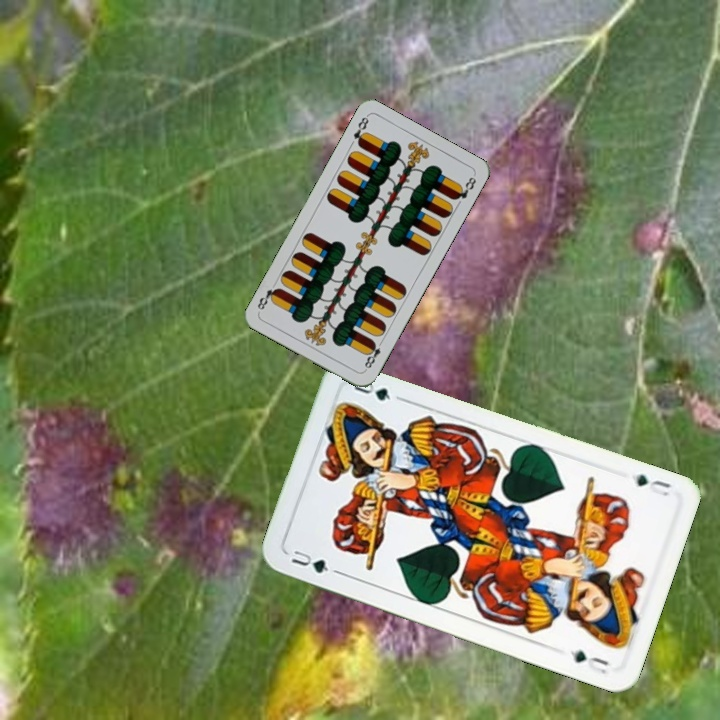E8: (360, 336, 386, 373), (349, 112, 372, 149)
GU: (627, 470, 673, 499), (287, 546, 331, 576)
